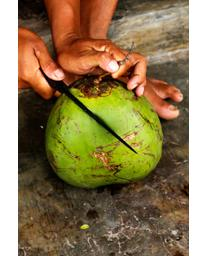coconut: (44, 72, 164, 189)
